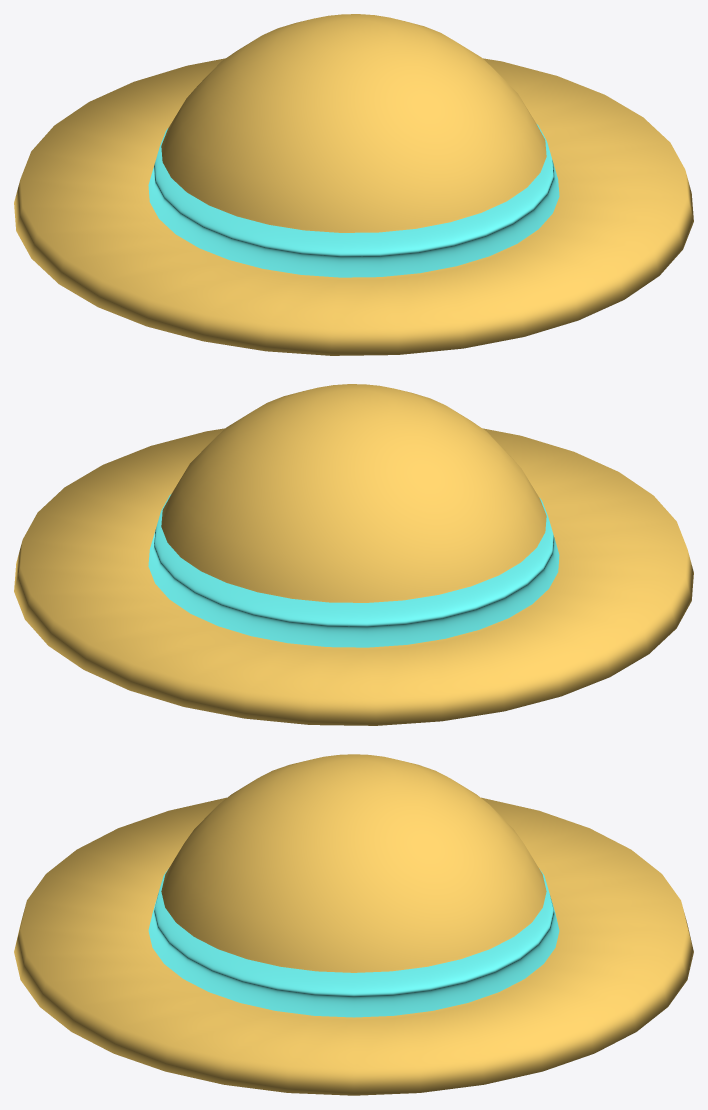
The model's file is Luffyhat.glb.
3 views of the same model, one above another, from view 1: azimuth 30°, elevation 25°; view 2: azimuth 150°, elevation 25°; view 3: azimuth 270°, elevation 25° (orthographic).
Parts seen in each view (by area): view 1: HatBase, HatBand; view 2: HatBase, HatBand; view 3: HatBase, HatBand.
Boxes of the visible parts, x1,y1,x2,y2 form: HatBase: (14,14,693,355); HatBand: (148,124,559,277); HatBase: (14,384,693,725); HatBand: (148,494,559,647); HatBase: (14,754,693,1095); HatBand: (148,868,559,1017).
Size of the model in its own units: 3.44 by 1.05 by 3.44.
